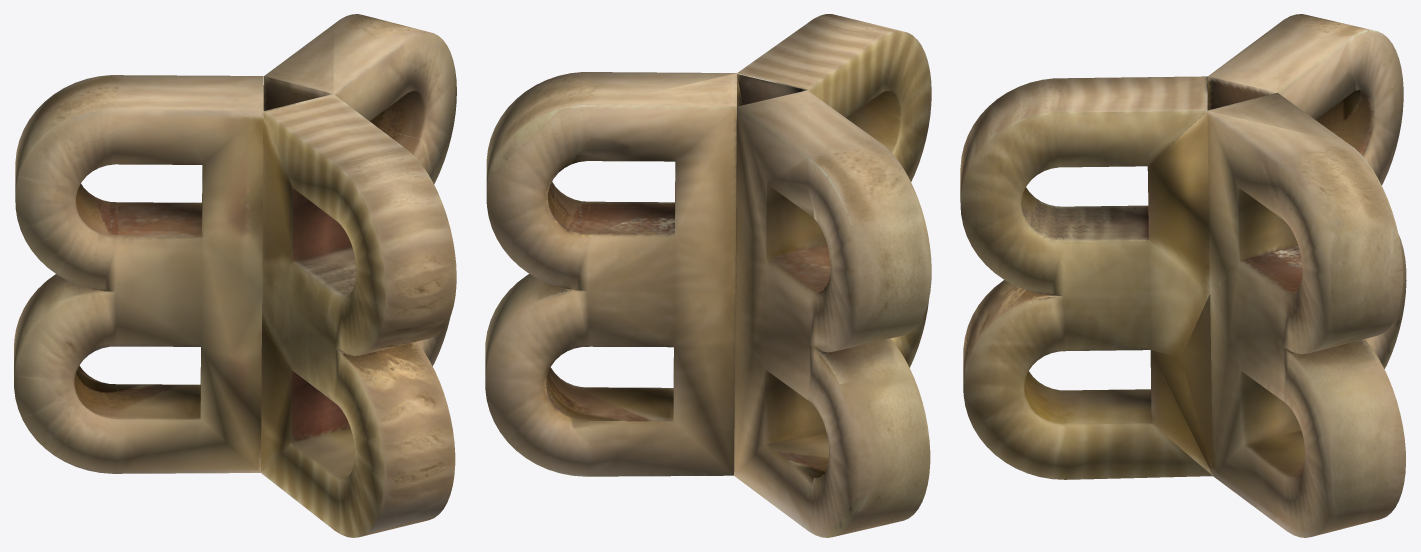
File: B_harfi.fbx
The picture shows the model from 3 angles, left to right: view 1: azimuth 30°, elevation 25°; view 2: azimuth 150°, elevation 25°; view 3: azimuth 270°, elevation 25°; orthographic projection.
Visible parts, largest first — view 1: Mesh_0; view 2: Mesh_0; view 3: Mesh_0.
Part boxes in pixels (x1,y1,x2,y2): Mesh_0: (14,14,456,537); Mesh_0: (485,14,931,537); Mesh_0: (960,14,1406,537).
Bounding box in the file's own units: 200 × 160 × 174.
1 material, 1 textured.
